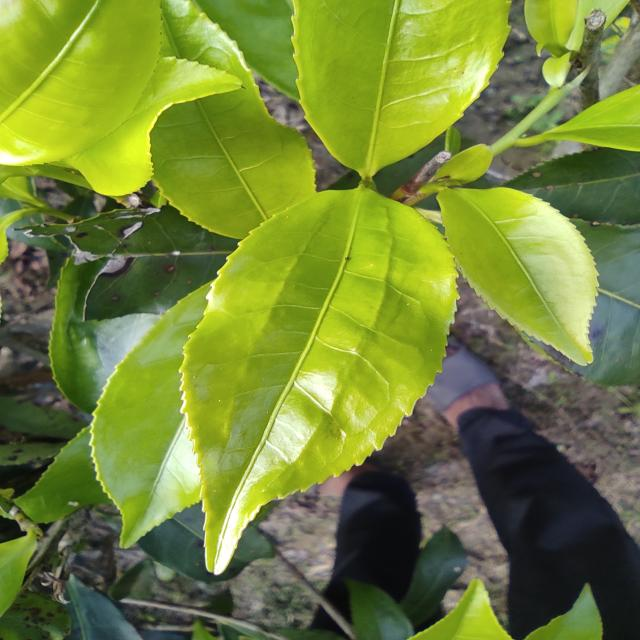Category B 2-4 days: (163, 163, 484, 581)
